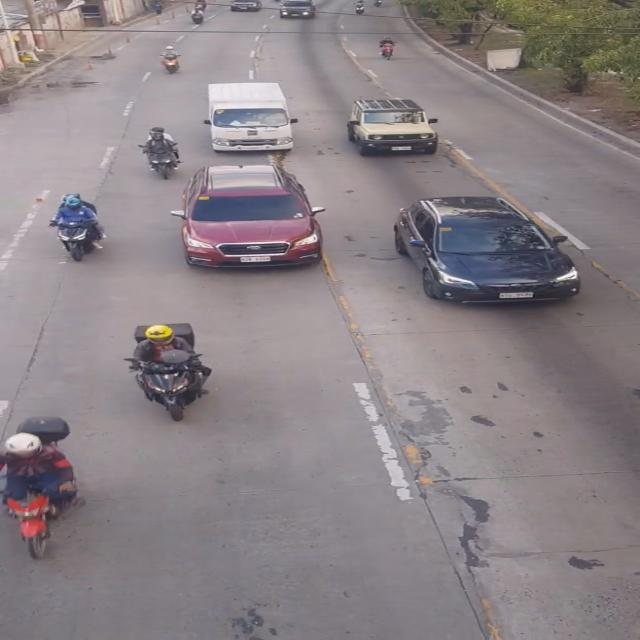car: (390, 197, 578, 312), (178, 160, 324, 274), (347, 98, 438, 158)
motorbike: (0, 415, 80, 557), (131, 324, 210, 426), (52, 190, 104, 261), (146, 125, 182, 181)
truck: (206, 80, 296, 157)
